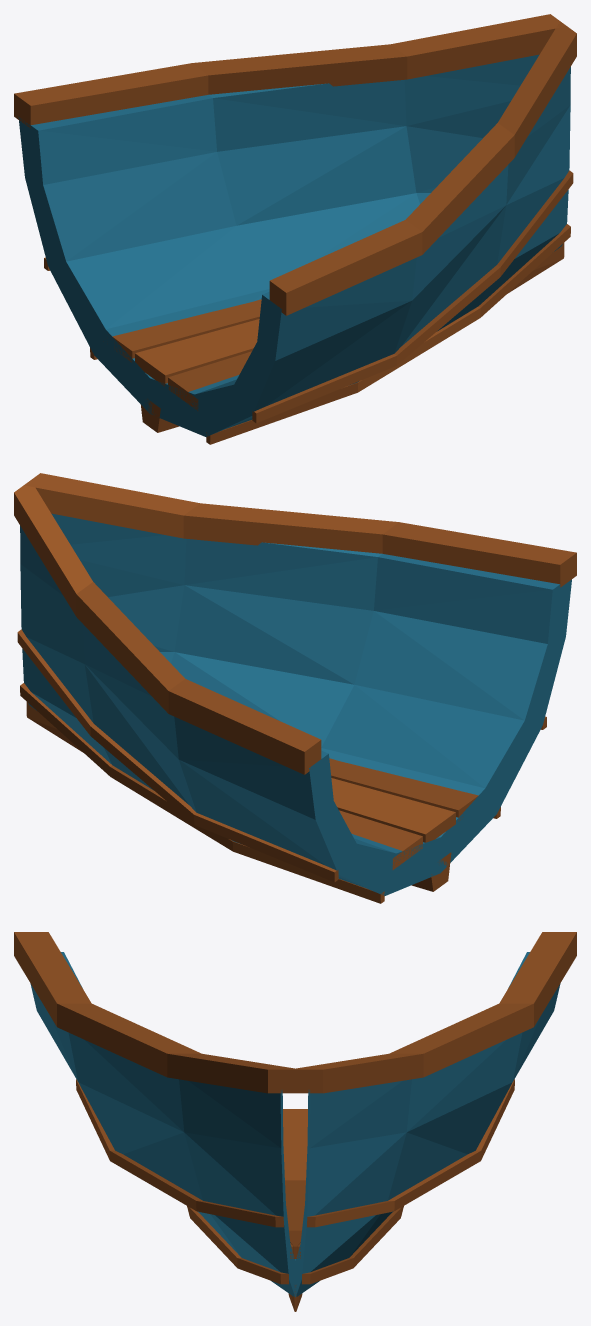
Rendered from EM_BoatBow.fbx.
3 views of the same model, one above another, from view 1: azimuth 30°, elevation 25°; view 2: azimuth 150°, elevation 25°; view 3: azimuth 270°, elevation 25° (orthographic). The views are drawn at different scales.
Parts seen in each view (by area): view 1: EM_BoatBow; view 2: EM_BoatBow; view 3: EM_BoatBow.
Boxes of the visible parts, left/top/right/bottom form: EM_BoatBow: left=14, top=14, right=576, bottom=444; EM_BoatBow: left=14, top=473, right=576, bottom=903; EM_BoatBow: left=14, top=932, right=576, bottom=1311.
Size of the model in its own units: 1.45 by 1.01 by 1.65.
